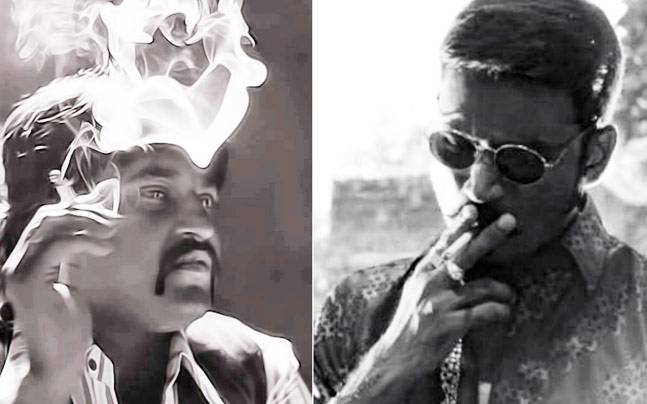cigarette: (438, 217, 488, 266), (43, 166, 82, 209)
